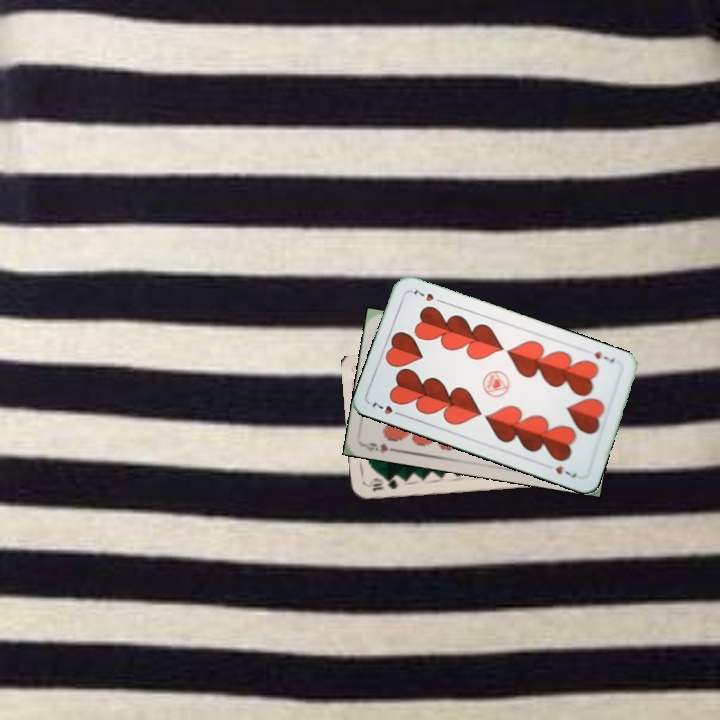G10: (363, 475, 401, 493)
H7: (368, 398, 406, 419), (591, 347, 617, 366)
H9: (359, 439, 400, 456)
